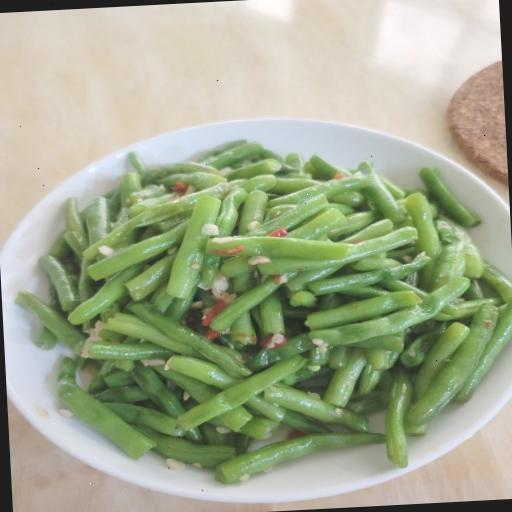buncis_rebus: (1, 101, 512, 509)
